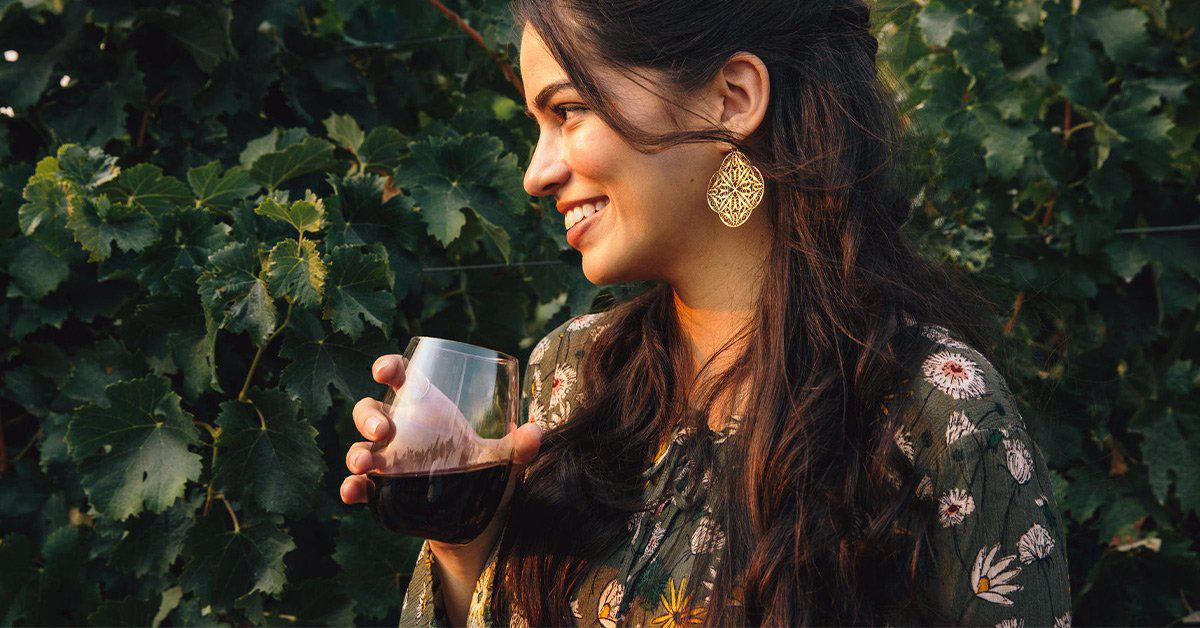Drunk: (516, 29, 715, 276)
